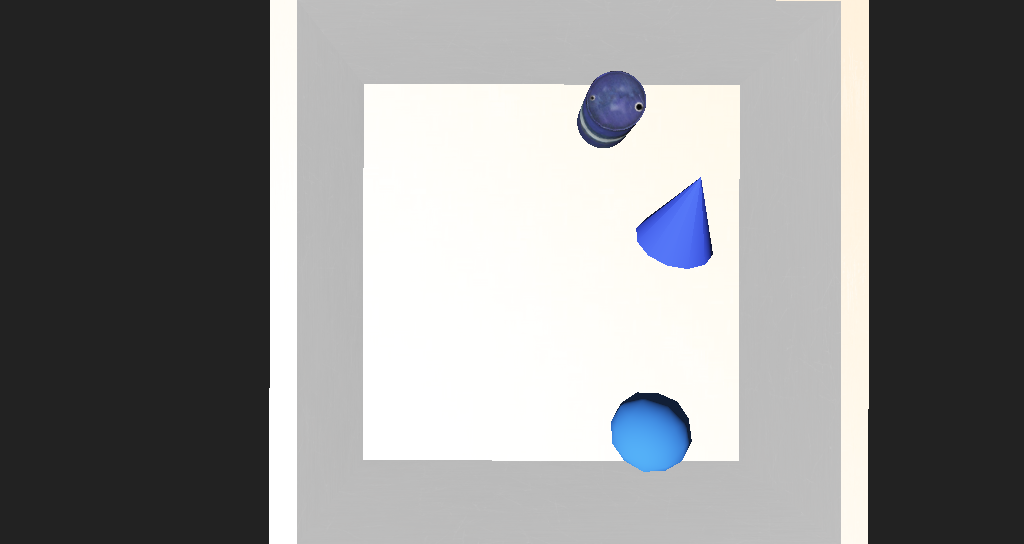cone: (529, 157, 576, 196)
cylinder: (566, 191, 660, 267)
sphere: (556, 336, 616, 379)
